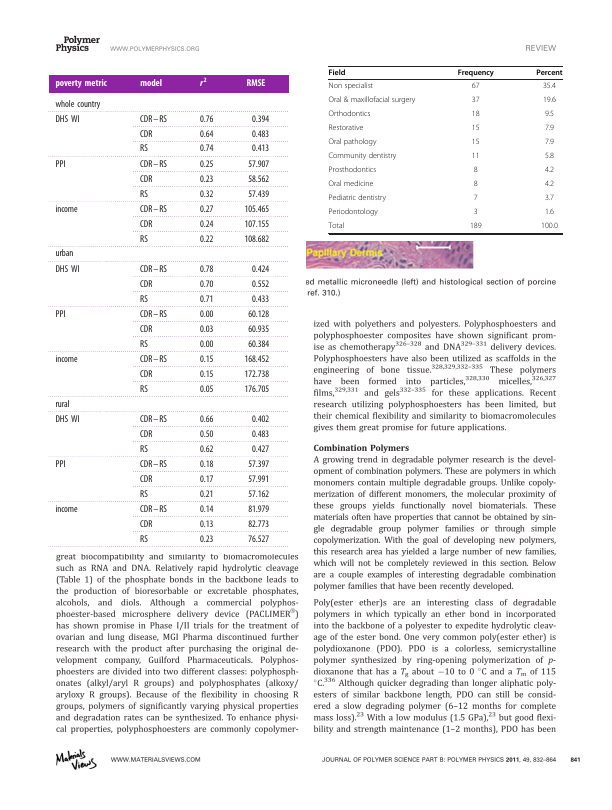borderless: (47, 73, 290, 548), (327, 65, 562, 233)
cell: (328, 96, 416, 106), (328, 152, 397, 162), (328, 194, 387, 204), (55, 79, 108, 90), (328, 208, 379, 218), (55, 99, 101, 110), (328, 138, 377, 148), (328, 166, 377, 176), (328, 82, 374, 92), (328, 180, 374, 190), (328, 110, 371, 120), (328, 124, 364, 134), (457, 69, 495, 78), (139, 114, 168, 125), (139, 159, 168, 170), (139, 204, 168, 215), (139, 264, 168, 275), (139, 309, 168, 320), (139, 354, 168, 365), (139, 414, 168, 425), (139, 459, 168, 470), (139, 504, 168, 515), (55, 114, 81, 125), (244, 204, 270, 215), (244, 219, 270, 230), (244, 234, 270, 245), (55, 264, 81, 275), (244, 354, 270, 365), (244, 369, 270, 380), (244, 384, 270, 395), (55, 414, 81, 425), (139, 79, 163, 90), (55, 204, 79, 215), (55, 354, 79, 365), (55, 504, 79, 515), (247, 159, 270, 170), (247, 174, 270, 185), (247, 189, 270, 200), (247, 309, 270, 320), (247, 324, 270, 335), (247, 339, 270, 350), (247, 459, 270, 470), (247, 474, 270, 485), (247, 489, 270, 500), (247, 504, 270, 515), (247, 519, 270, 530), (247, 534, 270, 545), (535, 69, 563, 78), (246, 79, 266, 90), (251, 114, 270, 125), (251, 129, 270, 140), (251, 144, 270, 155), (55, 249, 74, 260), (251, 264, 270, 275), (251, 279, 270, 290), (251, 294, 270, 305), (251, 414, 270, 425), (251, 429, 270, 440), (251, 444, 270, 455), (540, 222, 559, 232), (55, 399, 71, 410), (328, 222, 345, 232), (199, 114, 214, 125), (199, 129, 214, 140), (199, 144, 214, 155), (199, 159, 214, 170), (199, 174, 214, 185), (199, 189, 214, 200), (199, 204, 214, 215), (199, 219, 214, 230), (199, 234, 214, 245), (199, 264, 214, 275), (199, 279, 214, 290), (199, 294, 214, 305), (199, 309, 214, 320), (199, 324, 214, 335), (199, 339, 214, 350), (199, 354, 214, 365), (199, 369, 214, 380), (199, 384, 214, 395), (199, 414, 214, 425), (199, 429, 214, 440), (199, 444, 214, 455), (199, 459, 214, 470), (199, 474, 214, 485), (199, 489, 214, 500), (199, 504, 214, 515), (199, 519, 214, 530), (199, 534, 214, 545), (328, 69, 346, 78), (139, 129, 153, 140), (139, 174, 153, 185), (139, 219, 153, 230), (139, 279, 153, 290), (139, 324, 153, 335), (139, 369, 153, 380), (139, 429, 153, 440), (139, 474, 153, 485), (139, 519, 153, 530), (542, 82, 557, 92), (542, 96, 557, 106), (469, 222, 482, 232), (55, 159, 66, 170), (55, 309, 66, 320), (55, 459, 66, 470), (544, 110, 555, 120), (544, 124, 555, 134), (544, 138, 555, 148), (544, 152, 555, 162), (544, 166, 555, 176), (544, 180, 555, 190), (544, 194, 555, 204), (544, 208, 555, 218), (139, 144, 149, 155), (139, 189, 149, 200), (139, 234, 149, 245), (139, 294, 149, 305), (139, 339, 149, 350), (139, 384, 149, 395), (139, 444, 149, 455), (139, 489, 149, 500), (139, 534, 149, 545), (199, 76, 208, 88), (471, 82, 480, 92), (471, 96, 480, 106), (471, 110, 480, 120), (471, 124, 480, 134), (471, 138, 480, 148), (471, 152, 480, 162), (473, 166, 479, 176), (473, 180, 479, 190), (473, 194, 479, 204), (473, 208, 479, 218)
